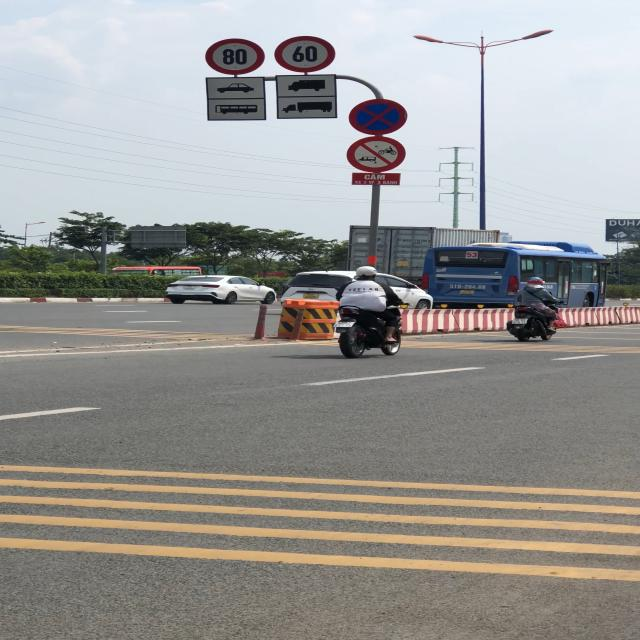Bien bao cam dung xe va do xe: (349, 100, 410, 136)
Bien bao toc do toi da cho phep: (272, 34, 337, 74), (204, 37, 266, 77)
